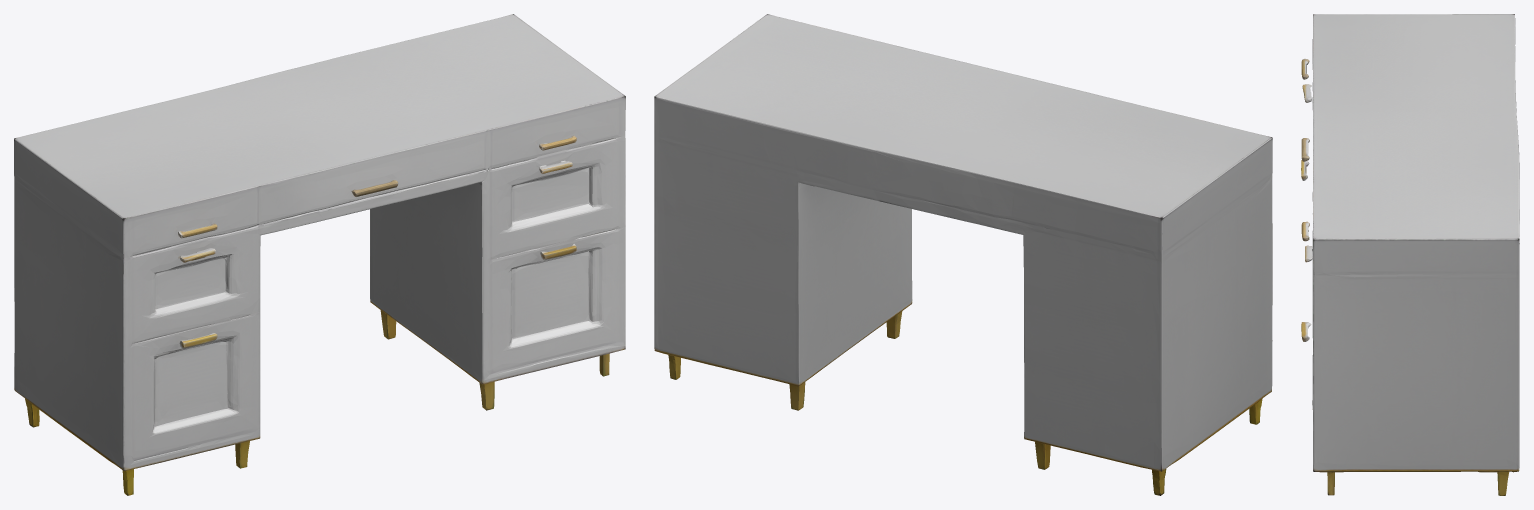
The model's file is tablegam.glb.
3 renders of one model, left to right at view 1: azimuth 30°, elevation 25°; view 2: azimuth 150°, elevation 25°; view 3: azimuth 270°, elevation 25°, orthographic. The views are drawn at different scales.
Visible parts, largest first — view 1: world; view 2: world; view 3: world.
Boxes of the visible parts, x1=… form: world: x1=14, y1=14, x2=625, y2=495; world: x1=654, y1=14, x2=1272, y2=495; world: x1=1301, y1=14, x2=1519, y2=495.
Size of the model in its own units: 1 by 0.5411 by 0.4098.
1 material, 1 textured.
